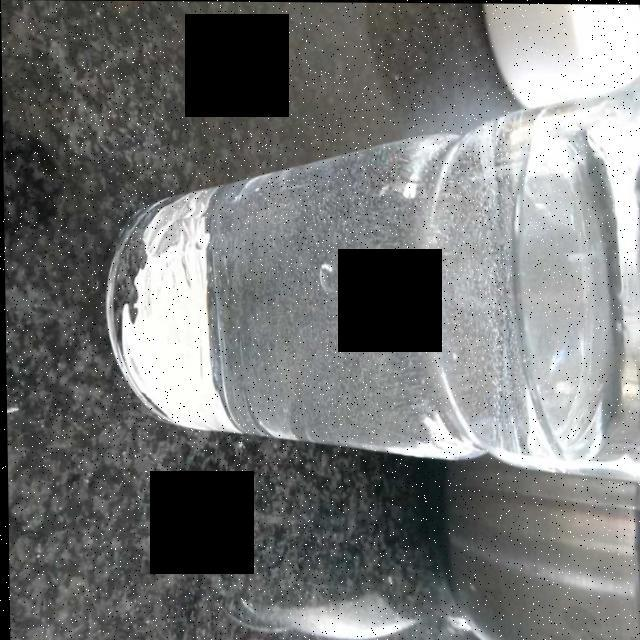water: (164, 113, 607, 452)
